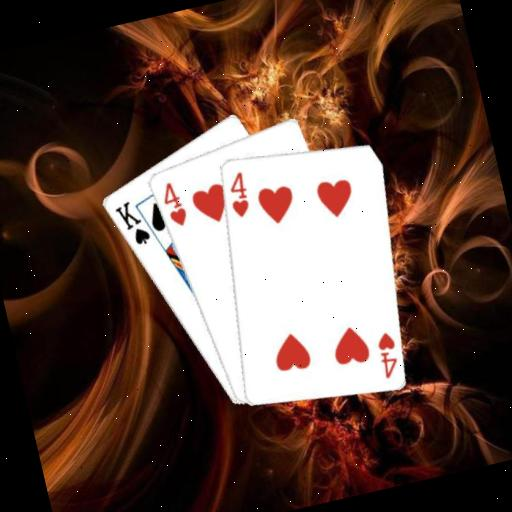4H: (156, 177, 191, 231), (371, 327, 405, 381), (221, 168, 254, 221)
KS: (110, 195, 154, 252)
